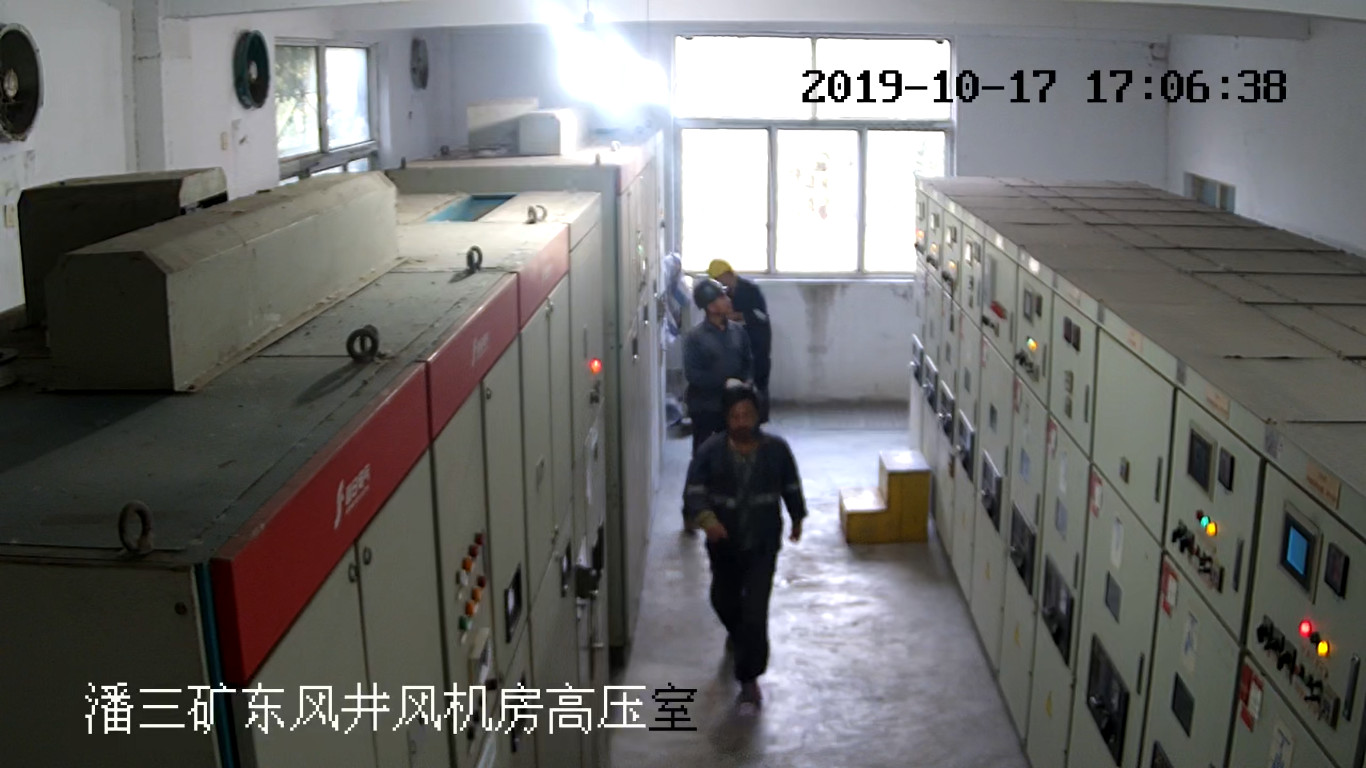helmet: (693, 278, 728, 310), (708, 259, 732, 278)
